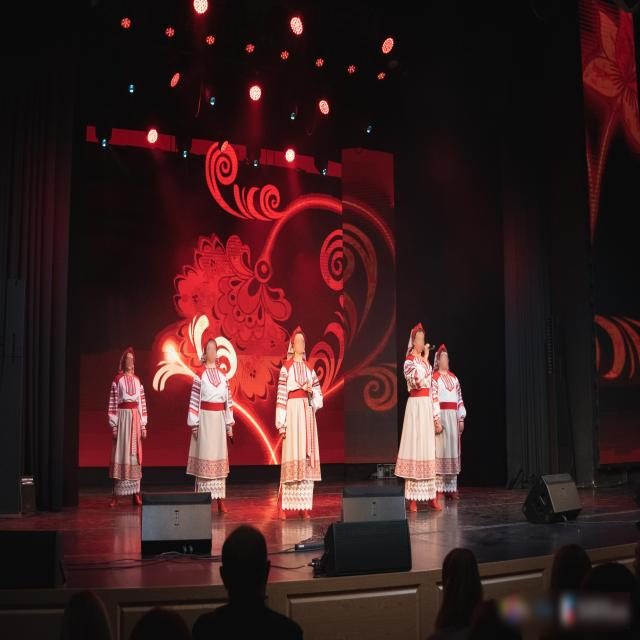Person: (269, 321, 325, 525), (98, 341, 154, 537), (394, 310, 444, 528), (184, 334, 237, 514), (430, 341, 476, 507)
